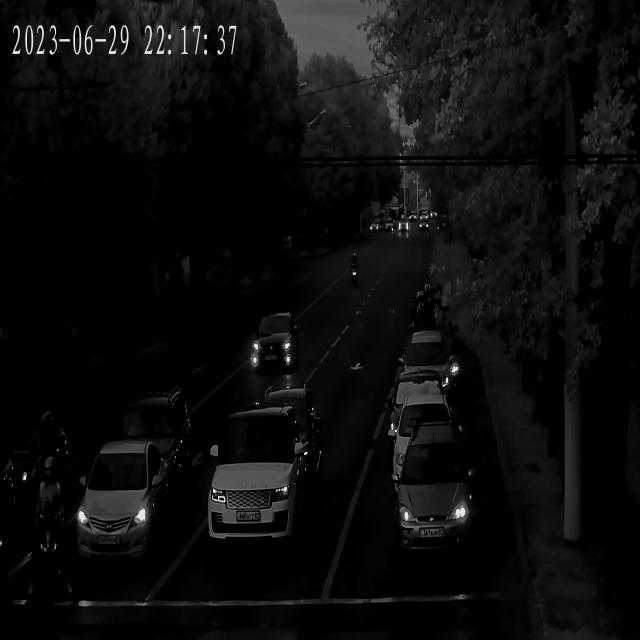Car: (210, 408, 316, 553), (75, 445, 171, 566), (98, 389, 194, 509), (394, 426, 476, 562), (0, 408, 67, 513), (244, 390, 324, 475), (391, 394, 467, 480), (381, 374, 448, 434), (397, 335, 454, 405), (251, 313, 303, 377)
Motorcycle: (30, 464, 74, 605), (348, 251, 361, 295)
